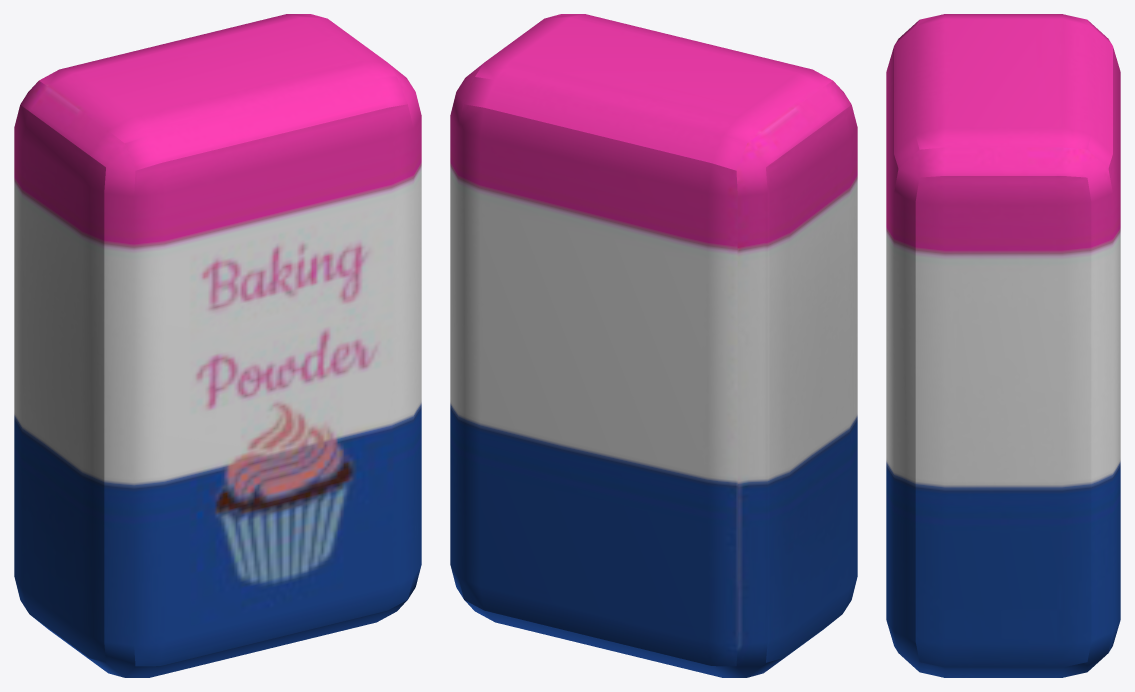
File: bakingPowder.glb
3 renders of one model, left to right at view 1: azimuth 30°, elevation 25°; view 2: azimuth 150°, elevation 25°; view 3: azimuth 270°, elevation 25°, orthographic. The views are drawn at different scales.
Visible parts, largest first — view 1: BakingPowder; view 2: BakingPowder; view 3: BakingPowder.
Boxes of the visible parts, x1=… form: BakingPowder: x1=14, y1=14, x2=421, y2=677; BakingPowder: x1=450, y1=14, x2=857, y2=677; BakingPowder: x1=886, y1=14, x2=1120, y2=677.
Size of the model in its own units: 0.1297 by 0.2083 by 0.0813.
Materials: 1 (1 with a texture image).
